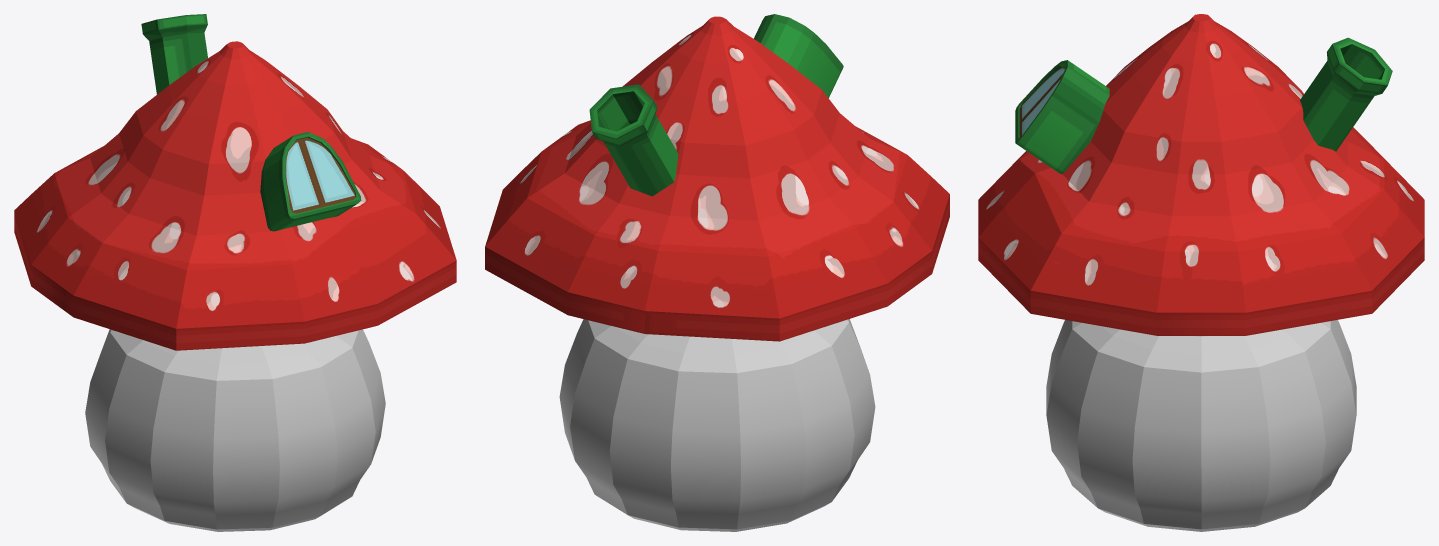
Rendered from MushroomHouse.fbx.
The picture shows the model from 3 angles, left to right: view 1: azimuth 30°, elevation 25°; view 2: azimuth 150°, elevation 25°; view 3: azimuth 270°, elevation 25°; orthographic projection. The views are drawn at different scales.
Visible parts, largest first — view 1: pCube1, pCylinder1, pPlane1, pCylinder2, pCube2; view 2: pCube1, pCylinder1, pCylinder2, pCube2; view 3: pCube1, pCylinder1, pCylinder2, pCube2, pPlane1.
Part boxes in pixels (box(x1,y1,x2,y2)): pCube1: box(14, 41, 456, 350); pCylinder1: box(85, 329, 385, 531); pPlane1: box(285, 137, 355, 213); pCylinder2: box(141, 14, 207, 94); pCube2: box(260, 132, 361, 231); pCube1: box(485, 16, 949, 341); pCylinder1: box(559, 319, 875, 531); pCylinder2: box(589, 84, 678, 196); pCube2: box(754, 14, 843, 98); pCube1: box(978, 14, 1424, 335); pCylinder1: box(1046, 320, 1356, 531); pCylinder2: box(1300, 37, 1392, 151); pCube2: box(1015, 60, 1109, 173); pPlane1: box(1019, 67, 1064, 137).
Size of the model in its own units: 14.68 by 16.78 by 14.68.
